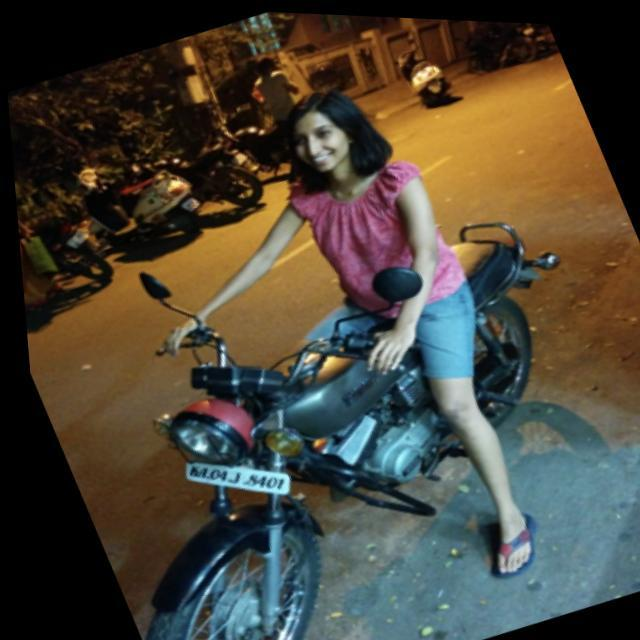Nonhelmet: (276, 70, 385, 201)
